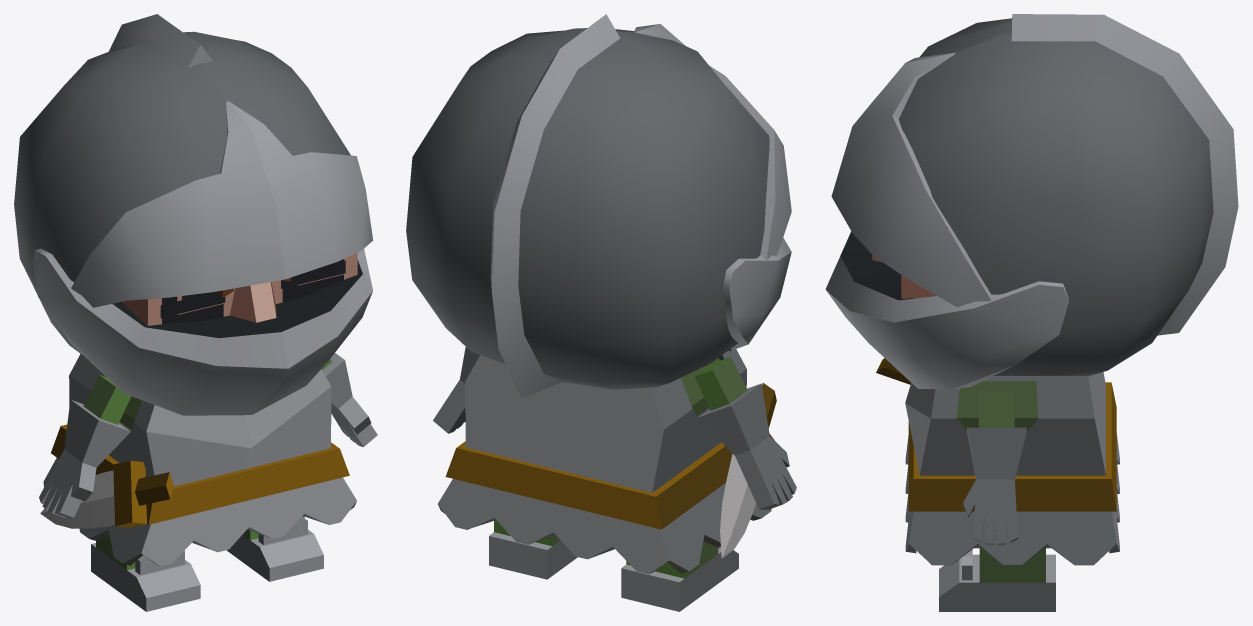
3 views of the same model, side by side, from view 1: azimuth 30°, elevation 25°; view 2: azimuth 150°, elevation 25°; view 3: azimuth 270°, elevation 25° (orthographic). The views are drawn at different scales.
Visible parts, largest first — view 1: Ch_239_Head, Ch_239, Ch_239_Arm_L, Ch_239_Leg_L, Ch_239_Leg_R, Ch_239_Arm_R, Ch_239_Eye_02, Ch_239_Eye_03_L, Ch_239_Eye_03_R; view 2: Ch_239_Head, Ch_239, Ch_239_Arm_L, Ch_239_Leg_L, Ch_239_Leg_R, Ch_239_Arm_R; view 3: Ch_239_Head, Ch_239, Ch_239_Arm_R, Ch_239_Leg_R.
Part boxes in pixels (box(x1,y1,x2,y2)): Ch_239_Head: box(14, 14, 373, 415); Ch_239: box(40, 353, 356, 566); Ch_239_Arm_L: box(39, 375, 131, 518); Ch_239_Leg_L: box(91, 535, 200, 611); Ch_239_Leg_R: box(227, 516, 323, 581); Ch_239_Arm_R: box(321, 353, 377, 446); Ch_239_Eye_02: box(160, 260, 345, 318); Ch_239_Eye_03_L: box(162, 291, 223, 324); Ch_239_Eye_03_R: box(282, 259, 343, 302); Ch_239_Head: box(406, 14, 791, 398); Ch_239: box(438, 349, 776, 574); Ch_239_Arm_L: box(694, 357, 796, 509); Ch_239_Leg_L: box(621, 541, 738, 611); Ch_239_Leg_R: box(489, 520, 577, 579); Ch_239_Arm_R: box(433, 347, 480, 433); Ch_239_Head: box(825, 14, 1238, 389); Ch_239: box(876, 358, 1119, 565); Ch_239_Arm_R: box(963, 391, 1026, 545); Ch_239_Leg_R: box(939, 546, 1055, 611).
Size of the model in its own units: 7.37 by 11.33 by 7.68.
